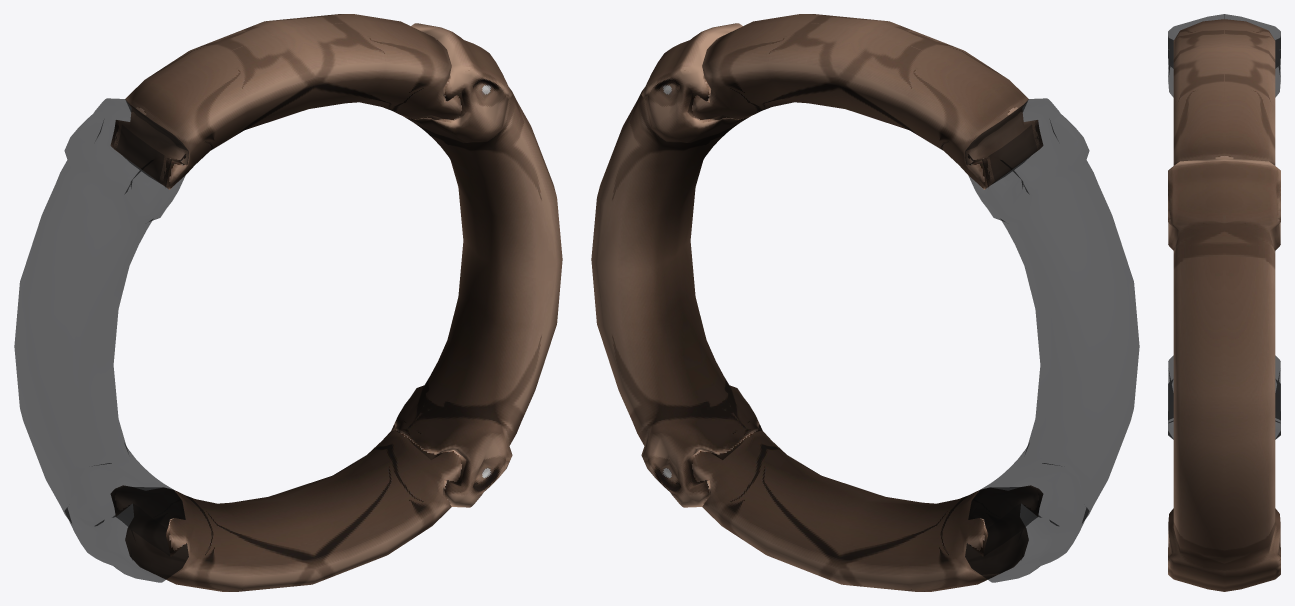
The model's file is ringpiece3.glb.
The picture shows the model from 3 angles, left to right: view 1: azimuth 30°, elevation 25°; view 2: azimuth 150°, elevation 25°; view 3: azimuth 270°, elevation 25°; orthographic projection. The views are drawn at different scales.
Parts seen in each view (by area): view 1: piece3.001; view 2: piece3.001; view 3: piece3.001.
Part boxes in pixels (x1,y1,x2,y2): piece3.001: (14,14,562,591); piece3.001: (591,14,1139,591); piece3.001: (1168,14,1280,591).
Bounding box in the file's own units: 2.51 × 2.51 × 0.5033.
Materials: 2 (1 with a texture image).
